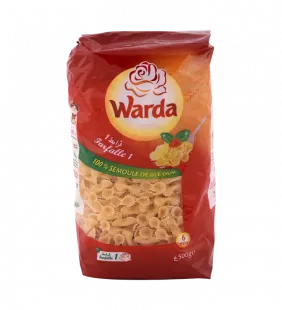LA ROSE BLANCHE: (60, 20, 228, 289)
